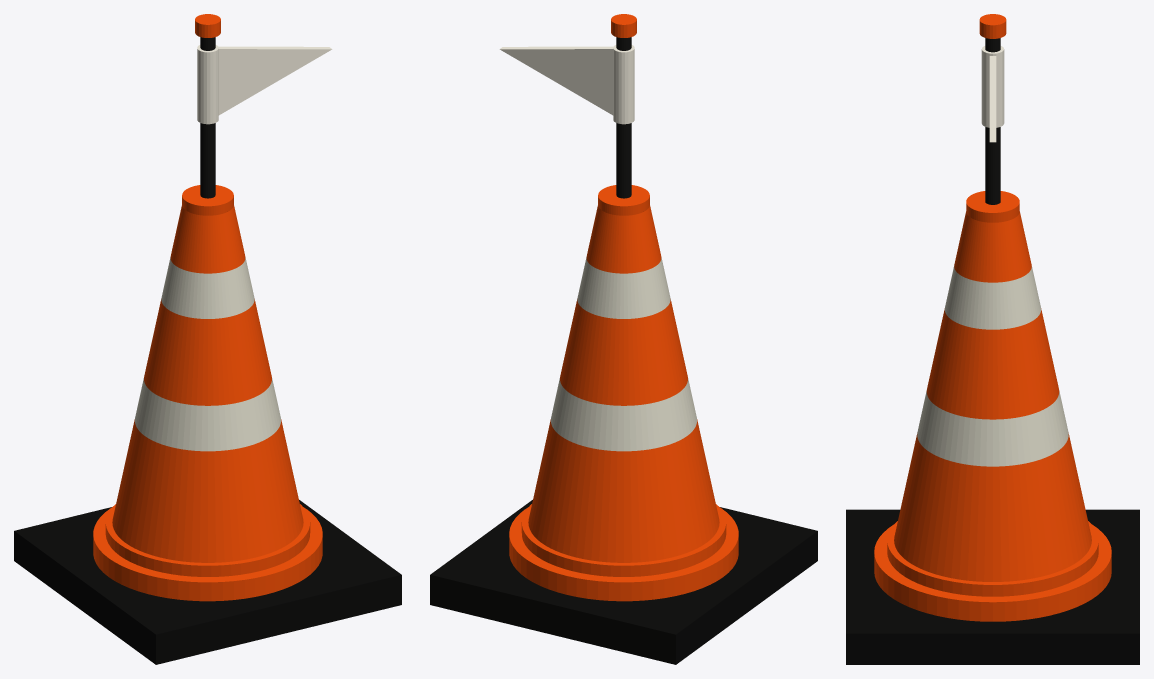
File: trail_marker_cone_white_flag.obj
The picture shows the model from 3 angles, left to right: view 1: azimuth 30°, elevation 25°; view 2: azimuth 150°, elevation 25°; view 3: azimuth 270°, elevation 25°; orthographic projection. The views are drawn at different scales.
Parts seen in each view (by area): view 1: trail_marker_cone_white_flag; view 2: trail_marker_cone_white_flag; view 3: trail_marker_cone_white_flag.
Boxes of the visible parts, box(x1,y1,x2,y2) form: trail_marker_cone_white_flag: box(14, 14, 401, 664); trail_marker_cone_white_flag: box(430, 14, 817, 664); trail_marker_cone_white_flag: box(846, 14, 1139, 664).
Size of the model in its own units: 0.68 by 1.49 by 0.68.
